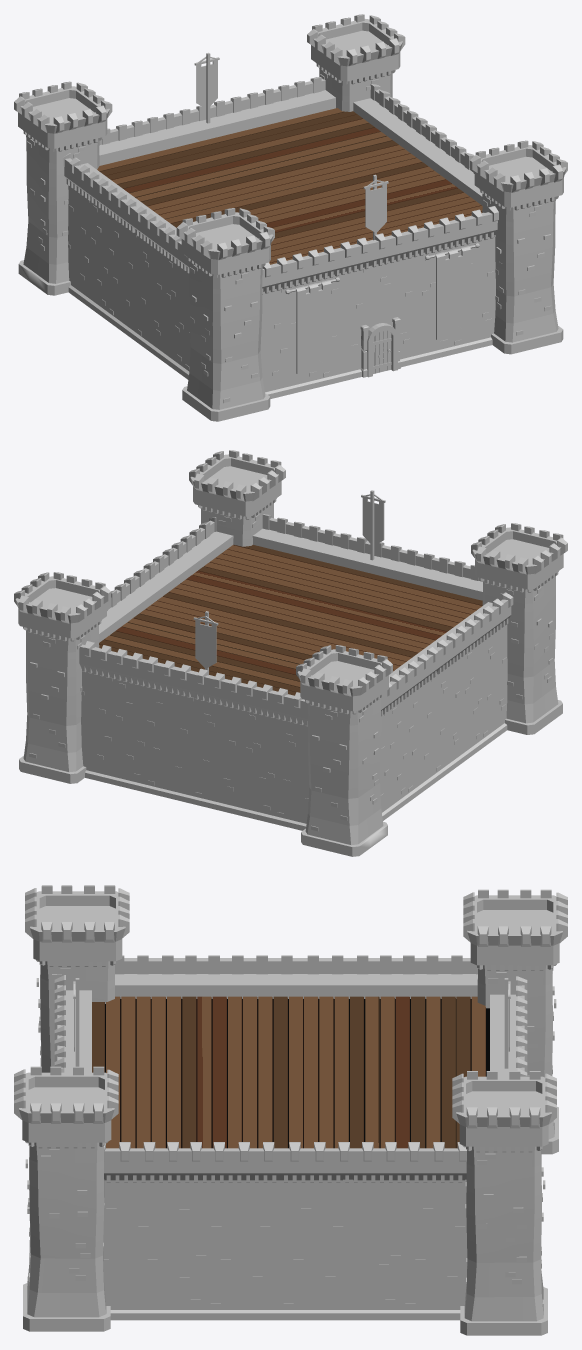
Rendered from BigCastel.fbx.
3 views of the same model, one above another, from view 1: azimuth 30°, elevation 25°; view 2: azimuth 150°, elevation 25°; view 3: azimuth 270°, elevation 25° (orthographic). The views are drawn at different scales.
Parts seen in each view (by area): view 1: StoneWall#1.019, Cube.118, Cube.117, StoneWall#1.006, StoneWall#1.007, Cube.119, StoneWall#1.009, StoneWall#1.008, Cube.121, StoneWall#1.011, StoneWall#1.010, StoneWall#1.012 (+6 smaller); view 2: StoneWall#1.019, Cube.119, StoneWall#1.010, StoneWall#1.011, Cube.121, Cube.118, StoneWall#1.008, StoneWall#1.009, Cube.117, StoneWall#1.006, StoneWall#1.007, StoneWall#1.013 (+3 smaller); view 3: StoneWall#1.019, StoneWall#1.012, StoneWall#1.013, Cube.121, Cube.117, Cube.119, Cube.118, StoneWall#1.008, StoneWall#1.009, StoneWall#1.014, StoneWall#1.010, StoneWall#1.007.
Part boxes in pixels (bbox=[...]): StoneWall#1.019: bbox=[97, 108, 482, 264]; Cube.118: bbox=[176, 208, 274, 421]; Cube.117: bbox=[469, 140, 567, 354]; StoneWall#1.006: bbox=[367, 206, 498, 373]; StoneWall#1.007: bbox=[260, 237, 373, 398]; Cube.119: bbox=[14, 81, 112, 295]; StoneWall#1.009: bbox=[62, 153, 156, 340]; StoneWall#1.008: bbox=[133, 206, 190, 379]; Cube.121: bbox=[307, 14, 405, 111]; StoneWall#1.011: bbox=[210, 77, 335, 135]; StoneWall#1.010: bbox=[99, 105, 221, 165]; StoneWall#1.012: bbox=[353, 84, 446, 163]; StoneWall#1.019: bbox=[99, 544, 482, 695]; Cube.119: bbox=[296, 645, 392, 856]; StoneWall#1.010: bbox=[192, 668, 309, 830]; StoneWall#1.011: bbox=[79, 641, 198, 804]; Cube.121: bbox=[14, 572, 110, 783]; Cube.118: bbox=[471, 523, 567, 734]; StoneWall#1.008: bbox=[417, 592, 513, 779]; StoneWall#1.009: bbox=[380, 646, 439, 820]; Cube.117: bbox=[189, 450, 285, 546]; StoneWall#1.006: bbox=[252, 514, 388, 574]; StoneWall#1.007: bbox=[376, 545, 482, 600]; StoneWall#1.013: bbox=[143, 517, 233, 594]; StoneWall#1.019: bbox=[92, 996, 485, 1148]; StoneWall#1.012: bbox=[282, 1142, 467, 1320]; StoneWall#1.013: bbox=[103, 1142, 281, 1320]; Cube.121: bbox=[452, 1071, 556, 1335]; Cube.117: bbox=[14, 1066, 118, 1331]; Cube.119: bbox=[463, 889, 567, 1154]; Cube.118: bbox=[25, 885, 129, 1072]; StoneWall#1.008: bbox=[115, 955, 299, 998]; StoneWall#1.009: bbox=[300, 955, 477, 998]; StoneWall#1.014: bbox=[105, 999, 489, 1148]; StoneWall#1.010: bbox=[490, 976, 527, 1072]; StoneWall#1.007: bbox=[54, 975, 91, 1061].
Size of the model in its own units: 8309 by 4145 by 8449.
